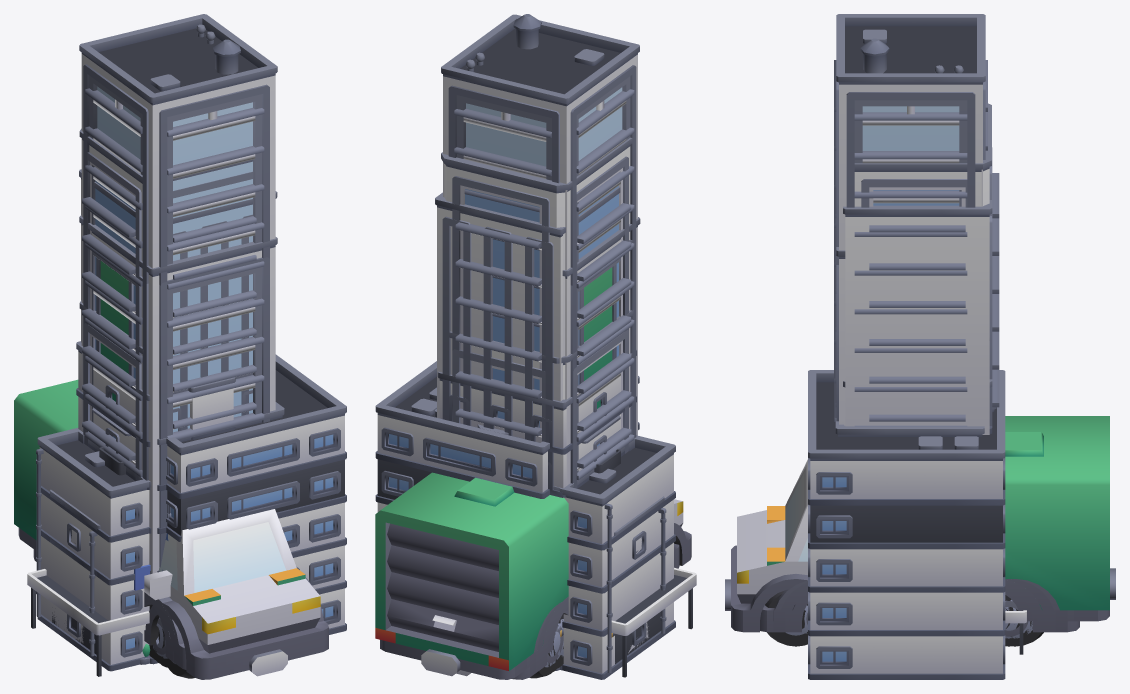
The model's file is city.glb.
3 views of the same model, side by side, from view 1: azimuth 30°, elevation 25°; view 2: azimuth 150°, elevation 25°; view 3: azimuth 270°, elevation 25° (orthographic).
Visible parts, largest first — view 1: building-skyscraper-d, building-n, body (×4), building-j, building-skyscraper-c, building-skyscraper-b, building-skyscraper-e, building-k, building-skyscraper-a, building-m, building-l; view 2: building-skyscraper-d, body (×3), building-skyscraper-b, building-skyscraper-e, building-j, building-n, door, building-m, building-k, building-skyscraper-a, building-skyscraper-c; view 3: building-n, body (×6), building-skyscraper-d, building-skyscraper-e, building-skyscraper-b, building-skyscraper-c, building-l, building-skyscraper-a, wheel-front-left.
Part boxes in pixels (x1,y1,x2,y2): building-skyscraper-d: [79, 14, 277, 663]; building-n: [27, 354, 346, 676]; body (×4): [14, 379, 328, 679]; building-j: [36, 428, 149, 671]; building-skyscraper-c: [79, 215, 277, 664]; building-skyscraper-b: [79, 128, 256, 470]; building-skyscraper-e: [79, 169, 277, 436]; building-k: [50, 489, 100, 661]; building-skyscraper-a: [79, 300, 256, 480]; building-m: [76, 341, 252, 527]; building-l: [99, 402, 284, 572]; building-skyscraper-d: [441, 14, 639, 483]; body (×3): [375, 472, 691, 679]; building-skyscraper-b: [441, 137, 632, 664]; building-skyscraper-e: [435, 187, 620, 489]; building-j: [555, 435, 675, 679]; building-n: [375, 361, 696, 677]; door: [387, 523, 498, 651]; building-m: [437, 350, 636, 670]; building-k: [611, 496, 666, 663]; building-skyscraper-a: [449, 310, 633, 488]; building-skyscraper-c: [492, 217, 640, 485]; building-n: [808, 370, 1026, 679]; body (×6): [725, 416, 1115, 632]; building-skyscraper-d: [834, 14, 987, 426]; building-skyscraper-e: [843, 147, 992, 434]; building-skyscraper-b: [835, 103, 999, 421]; building-skyscraper-c: [834, 247, 967, 426]; building-l: [835, 407, 996, 436]; building-skyscraper-a: [835, 336, 999, 417]; wheel-front-left: [765, 591, 807, 646].
Size of the model in its own units: 2.32 by 5.47 by 3.25.
Materials: 14 (4 with a texture image).
